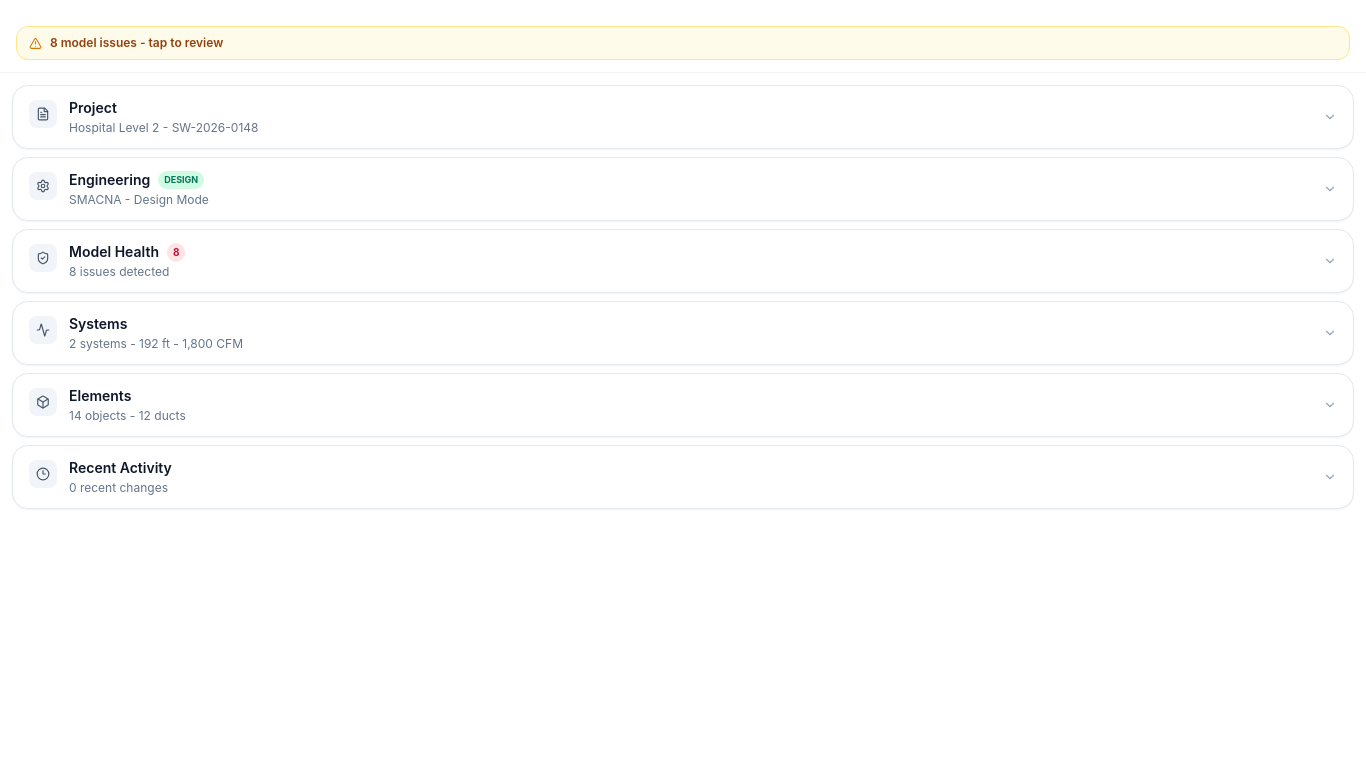
it: InspectorOverviewPanel › renders an empty activity state
The width and height of the screenshot is (1366, 768).
Click the button "Recent Activity 0 recent changes".
click(120, 468)  # box [13, 446, 1353, 508]
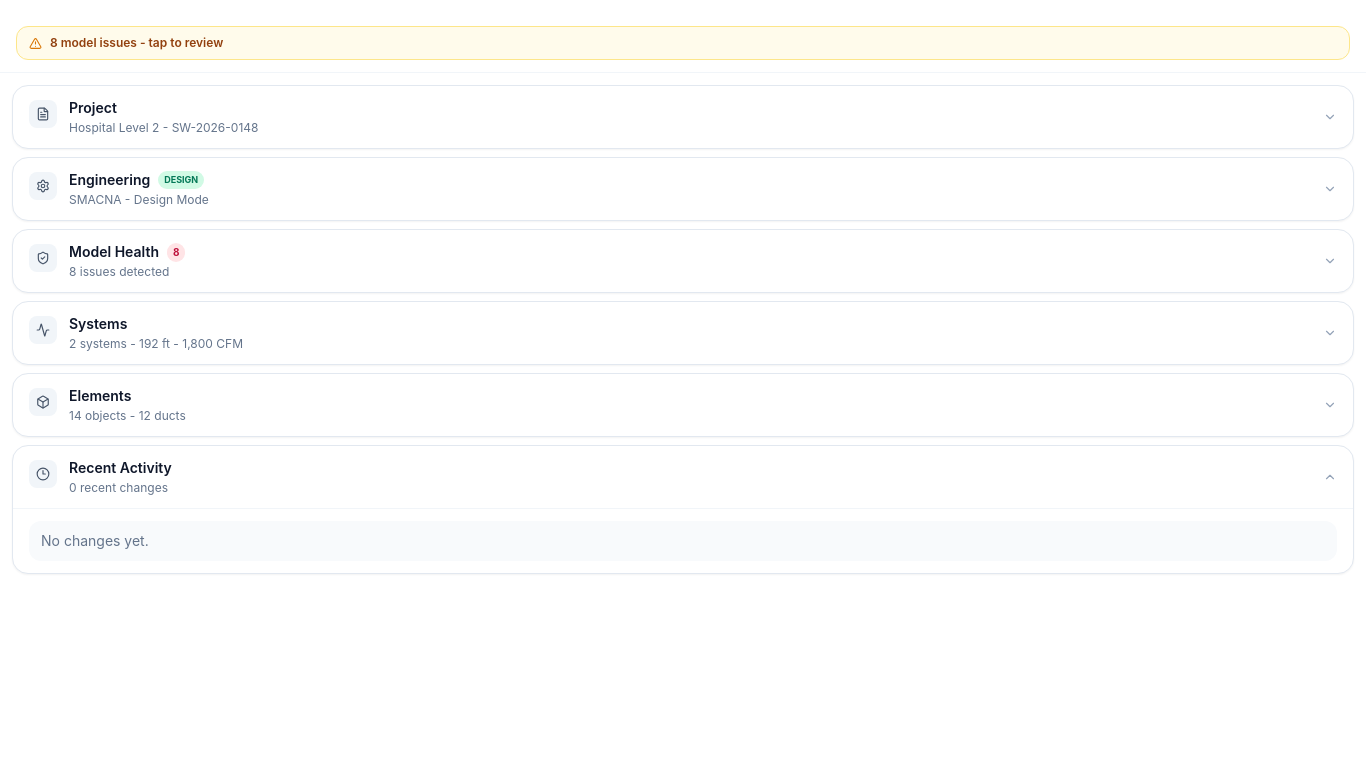
Check: the text "No changes yet." is shown, box [29, 521, 1337, 561]
